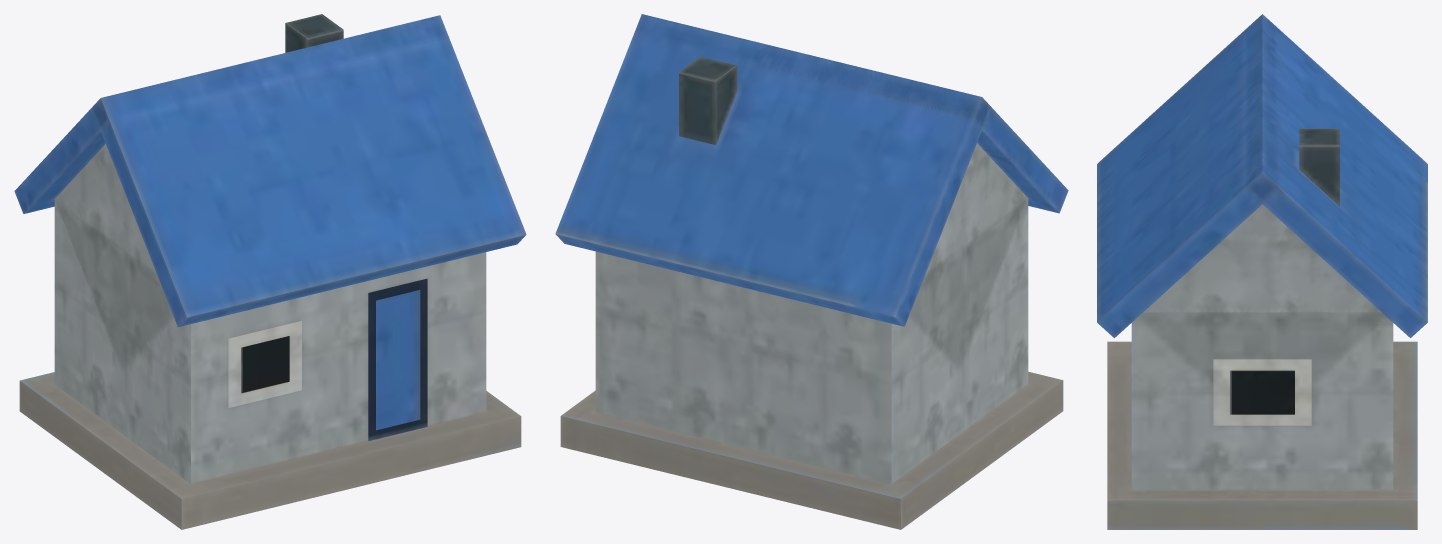
The model's file is housing.glb.
The picture shows the model from 3 angles, left to right: view 1: azimuth 30°, elevation 25°; view 2: azimuth 150°, elevation 25°; view 3: azimuth 270°, elevation 25°; orthographic projection. The views are drawn at different scales.
Parts seen in each view (by area): view 1: te_res_housing; view 2: te_res_housing; view 3: te_res_housing.
Boxes of the visible parts, <box> form: te_res_housing: <box>14,14,526,529</box>; te_res_housing: <box>555,14,1068,529</box>; te_res_housing: <box>1097,14,1427,529</box>.
Bounding box in the file's own units: 0.46 × 0.4824 × 0.4049.
1 material, 1 textured.
